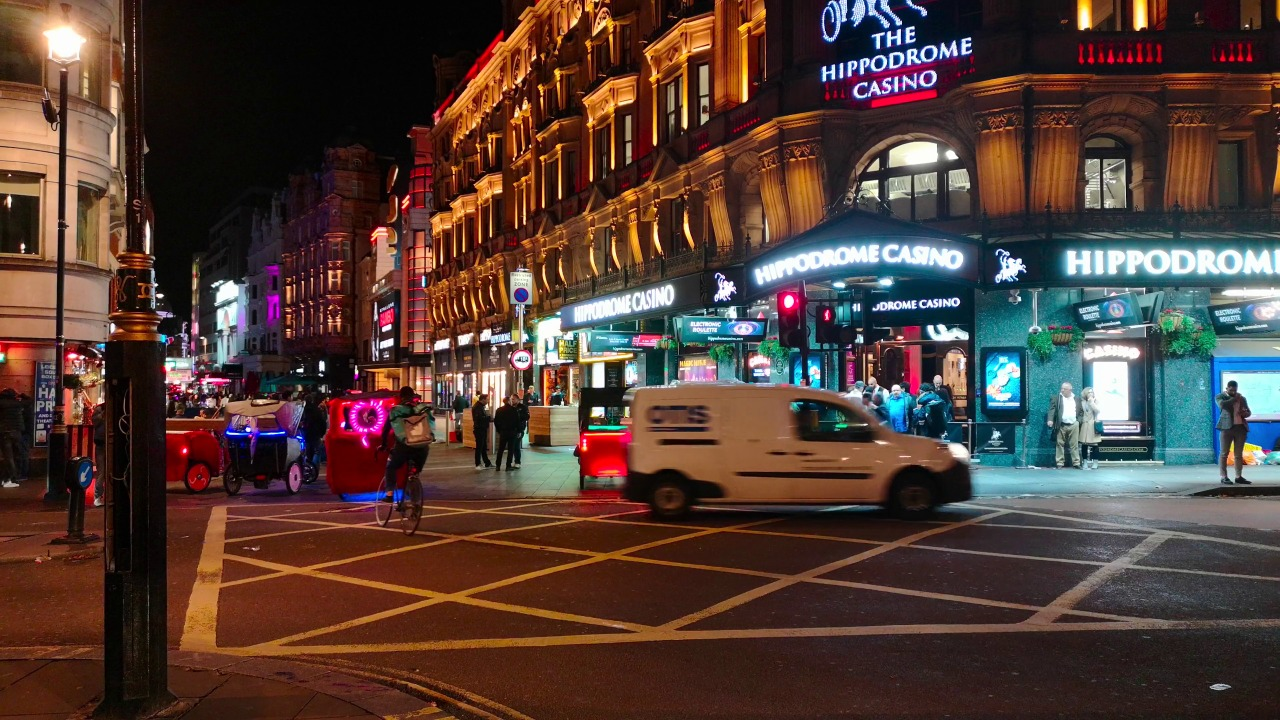car: (641, 391, 928, 515), (228, 401, 325, 481), (337, 397, 393, 477), (577, 387, 623, 480), (176, 415, 229, 483)
person: (1, 368, 42, 483), (396, 397, 427, 533), (1212, 377, 1244, 482), (1046, 375, 1076, 480), (1084, 402, 1108, 473), (469, 397, 486, 456), (515, 404, 527, 471), (524, 387, 548, 408), (937, 384, 951, 406), (844, 367, 857, 385), (895, 377, 902, 403), (936, 373, 944, 386), (870, 374, 876, 389), (498, 400, 499, 461)
